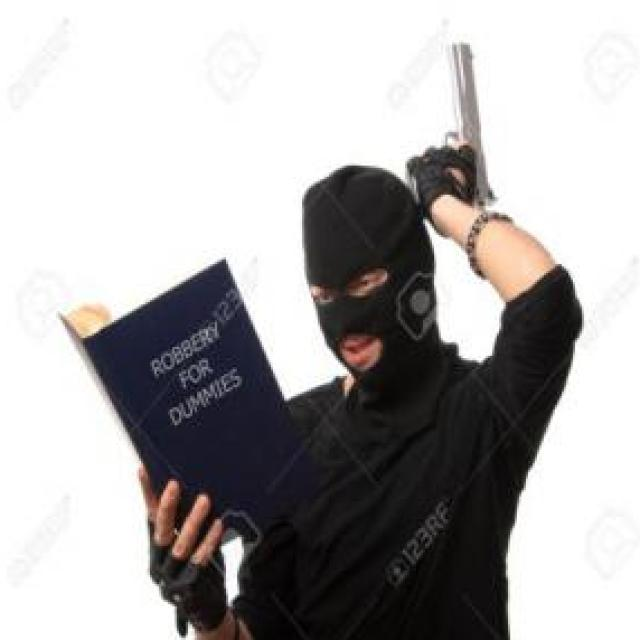pistol: (405, 36, 496, 218)
